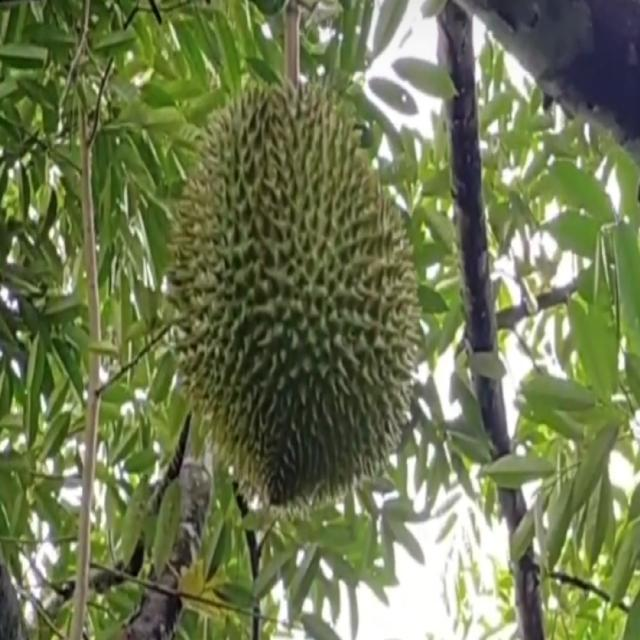immature: (170, 71, 419, 523)
